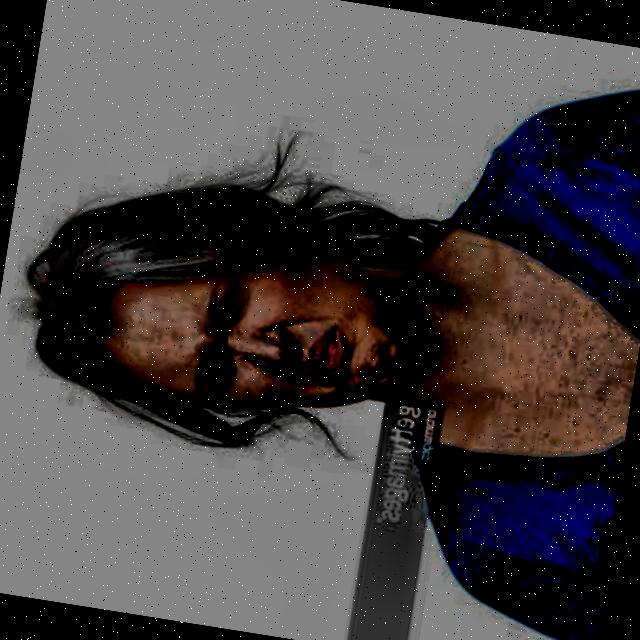disgust: (0, 120, 468, 490)
